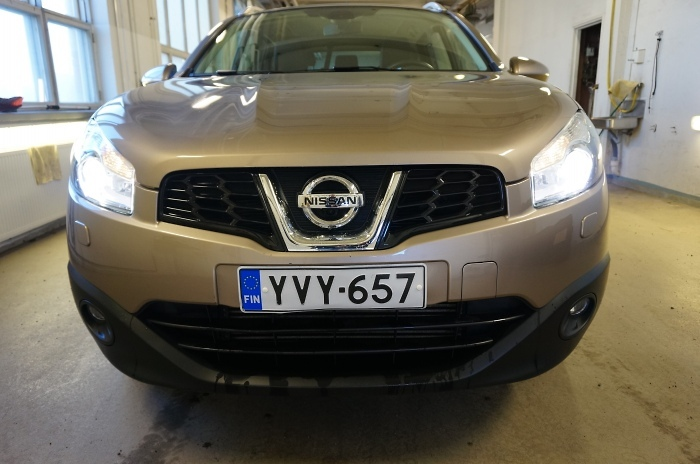license: (236, 265, 425, 316)
